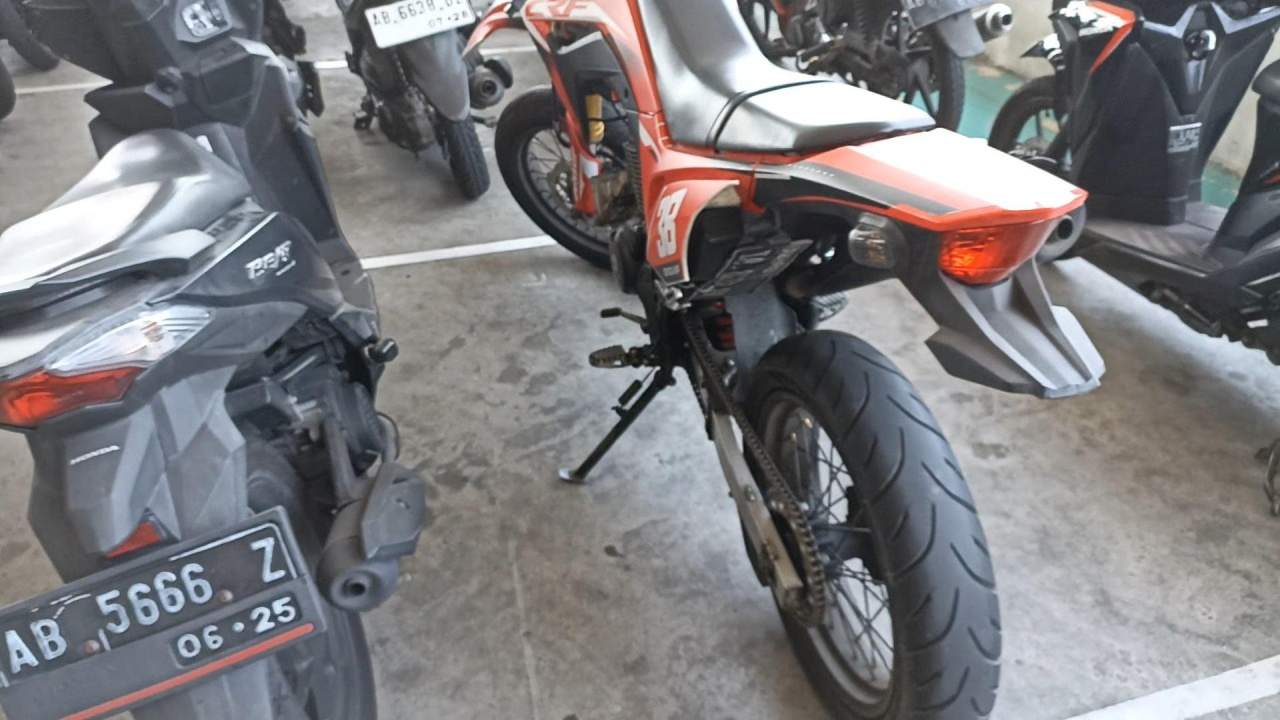plate: (0, 515, 328, 720)
